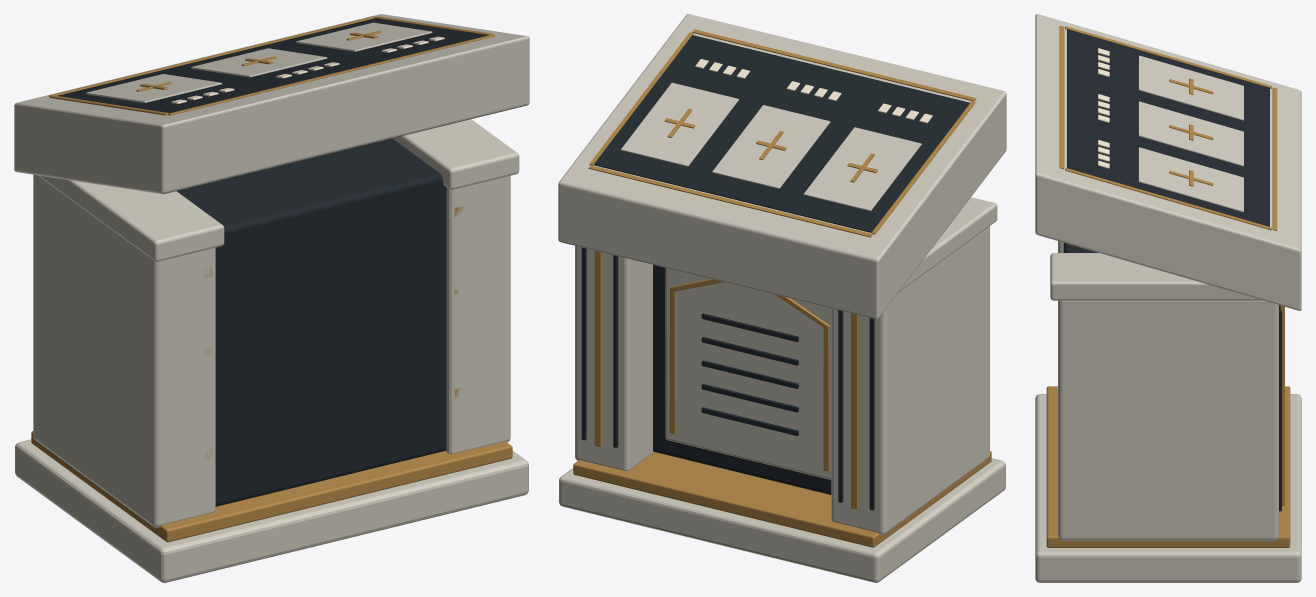
Rendered from SM_Aurelion_KIT_Z10AssentConsole.fbx.
3 views of the same model, side by side, from view 1: azimuth 30°, elevation 25°; view 2: azimuth 150°, elevation 25°; view 3: azimuth 270°, elevation 25° (orthographic). The views are drawn at different scales.
Visible parts, largest first — view 1: SM_Aurelion_KIT_Z10AssentConsole; view 2: SM_Aurelion_KIT_Z10AssentConsole; view 3: SM_Aurelion_KIT_Z10AssentConsole.
Boxes of the visible parts, x1,y1,x2,y2 form: SM_Aurelion_KIT_Z10AssentConsole: (14, 14, 529, 582); SM_Aurelion_KIT_Z10AssentConsole: (558, 14, 1006, 582); SM_Aurelion_KIT_Z10AssentConsole: (1035, 14, 1301, 582).
Bounding box in the file's own units: 100 × 70 × 119.
